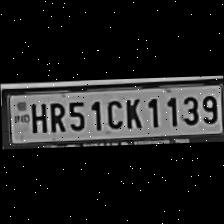1: (142, 94, 160, 130), (160, 92, 178, 128), (85, 96, 103, 131)
3: (178, 91, 198, 126)
5: (63, 97, 85, 132)
9: (198, 90, 218, 125)
C: (103, 96, 123, 130)
H: (24, 100, 46, 134)
K: (121, 95, 143, 131)
R: (44, 97, 64, 132)
